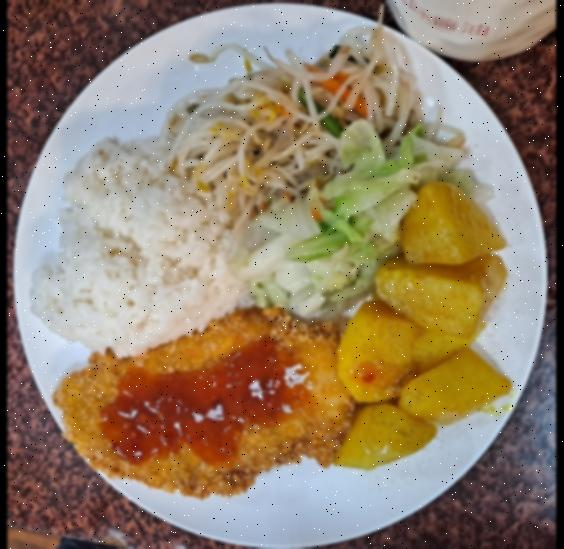big fried chicken leg: (16, 0, 546, 549)
big herbal chicken leg: (30, 136, 251, 356)
braised fish fillet: (334, 176, 512, 477), (169, 25, 410, 222), (226, 126, 464, 324)
braised pork: (44, 302, 356, 499)
